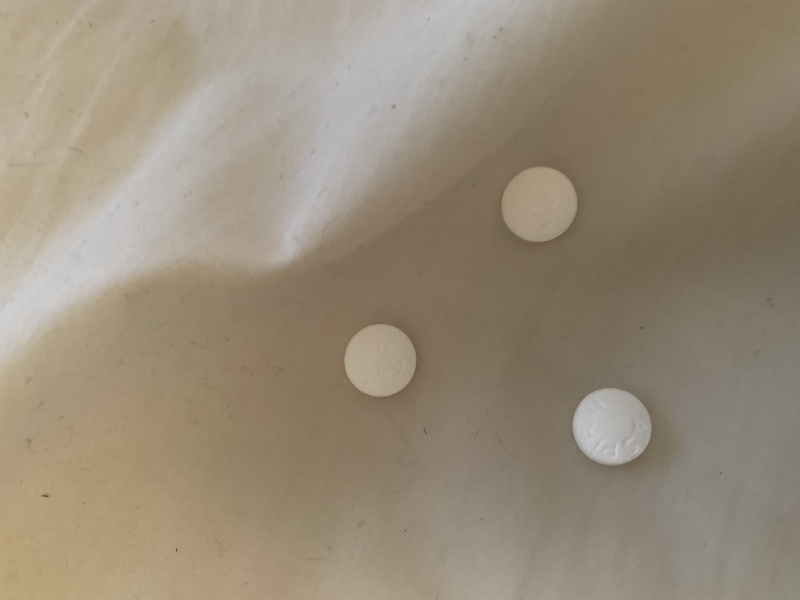Aspirin: (564, 380, 664, 475), (494, 159, 587, 249), (340, 313, 423, 409)
